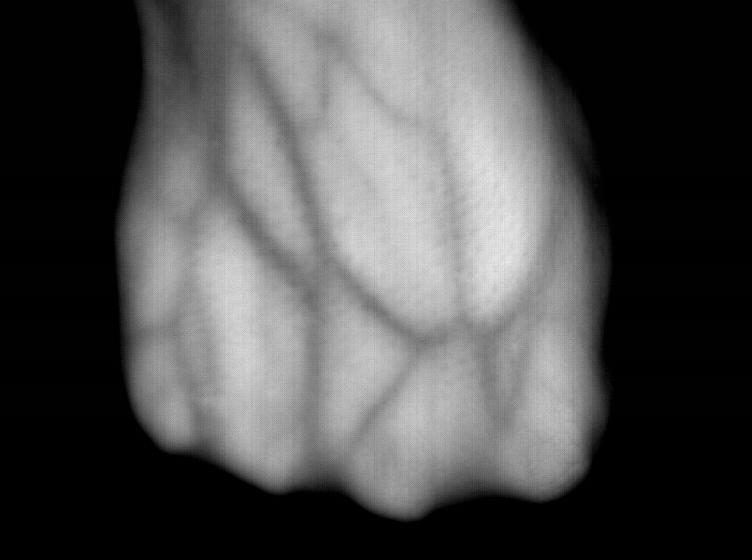Vein: (209, 56, 452, 356)
